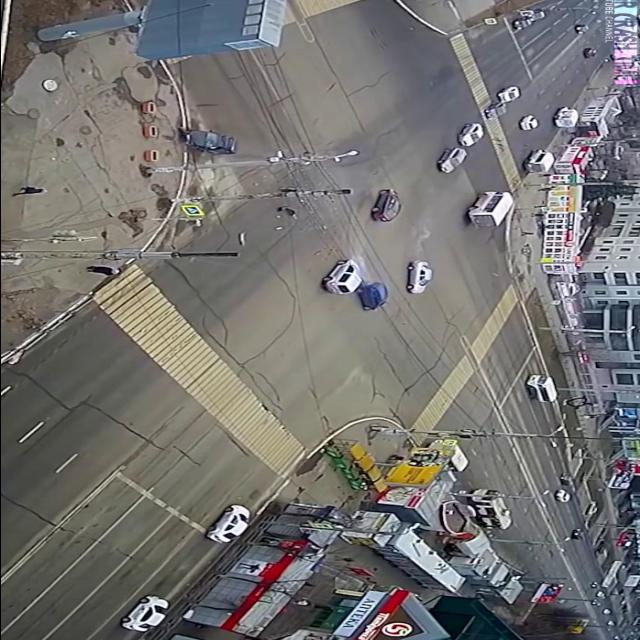accident: (151, 118, 277, 160), (315, 255, 397, 314)
non_accident: (477, 83, 527, 121)
